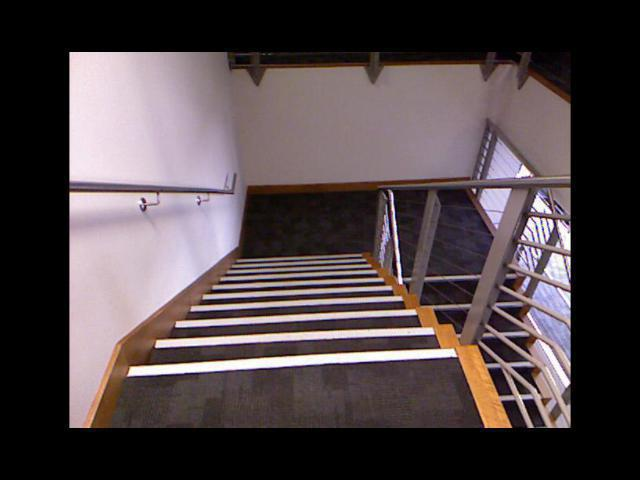Escaleras: (70, 253, 462, 427), (399, 252, 570, 427)
